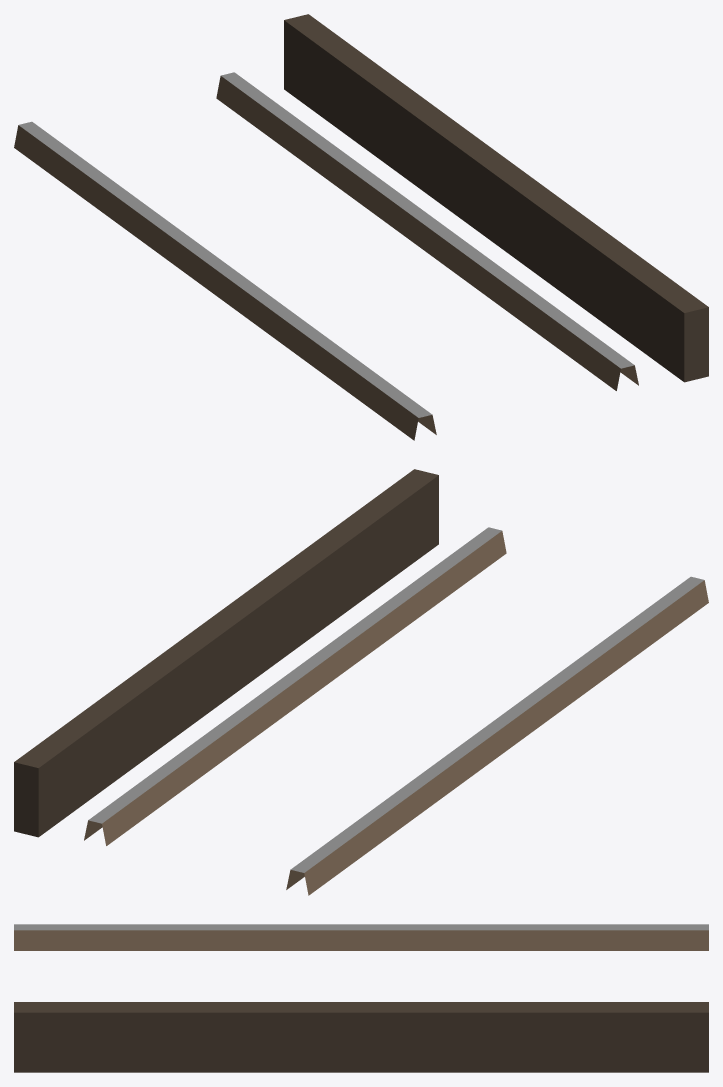
The model's file is SW_ENV_TrackStraight_05m_Collision.fbx.
3 views of the same model, one above another, from view 1: azimuth 30°, elevation 25°; view 2: azimuth 150°, elevation 25°; view 3: azimuth 270°, elevation 25° (orthographic). The views are drawn at different scales.
Visible parts, largest first — view 1: SW_ENV_TrackStraight_05m_Collision; view 2: SW_ENV_TrackStraight_05m_Collision; view 3: SW_ENV_TrackStraight_05m_Collision.
Boxes of the visible parts, x1,y1,x2,y2 form: SW_ENV_TrackStraight_05m_Collision: [14, 14, 708, 440]; SW_ENV_TrackStraight_05m_Collision: [14, 469, 708, 895]; SW_ENV_TrackStraight_05m_Collision: [14, 924, 708, 1072].
Size of the model in its own units: 212 by 47.71 by 500.
